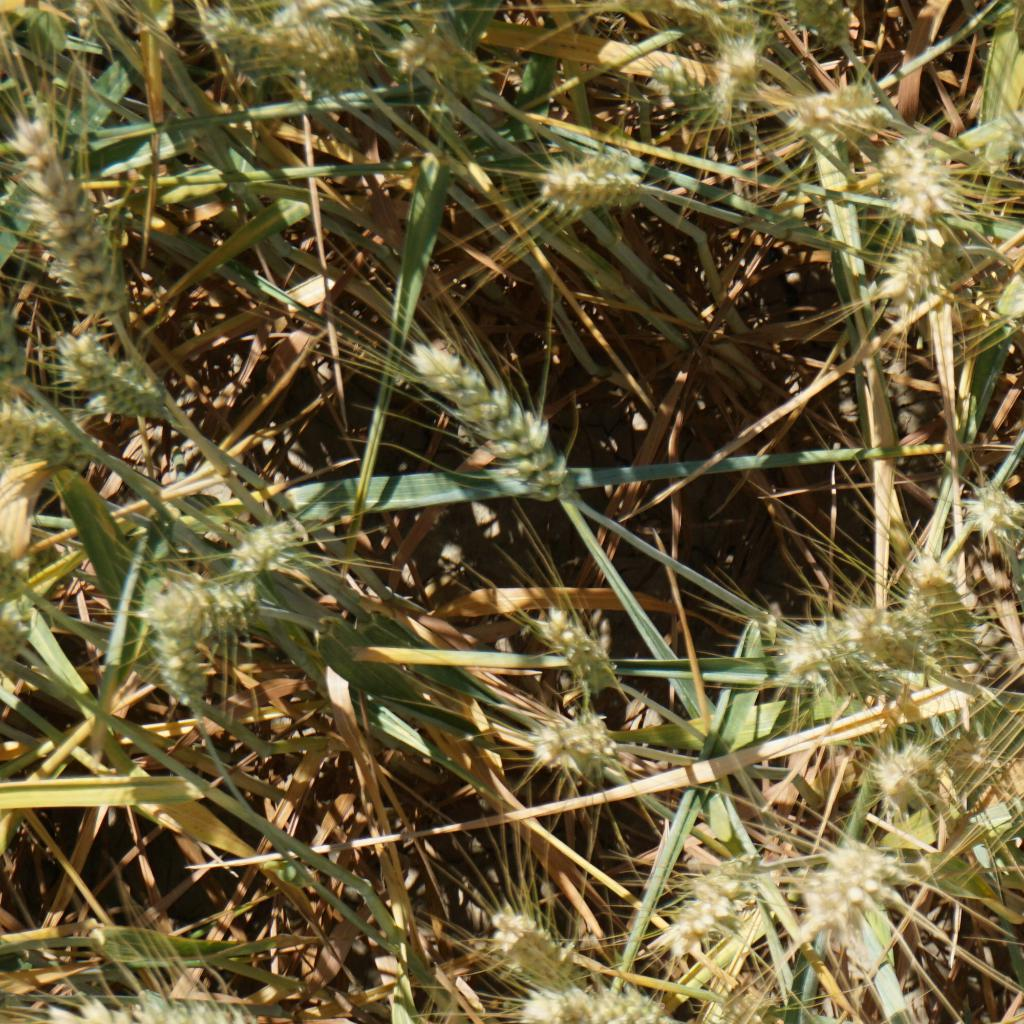0-0: (394, 332, 586, 511), (10, 101, 148, 331), (791, 821, 919, 936), (768, 608, 904, 704), (475, 894, 591, 1005), (52, 325, 177, 422), (37, 981, 307, 1024), (859, 231, 961, 332), (140, 576, 221, 700), (217, 6, 361, 75), (138, 572, 287, 638), (529, 145, 647, 227), (892, 546, 978, 657), (867, 137, 963, 233), (665, 857, 775, 937), (841, 584, 930, 668), (529, 704, 630, 777), (387, 27, 487, 99), (519, 972, 660, 1022), (790, 73, 891, 142), (532, 594, 609, 683), (850, 729, 950, 796), (216, 516, 306, 586), (935, 728, 1018, 803), (0, 413, 91, 473), (954, 478, 1024, 545), (644, 54, 704, 129), (697, 38, 768, 94), (795, 0, 859, 54), (995, 245, 1024, 325), (1001, 100, 1024, 168)
